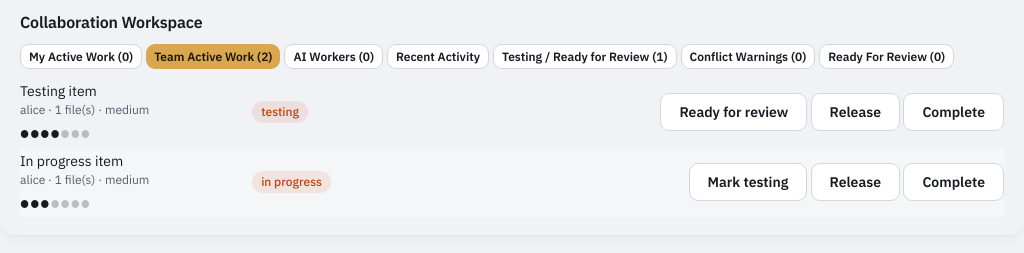
CollaborationWorkspace › Testing / Ready for Review shows testing and ready_for_review items only
The image size is (1024, 253).
expect the text "Testing item" is shown: met, box [20,82,97,100]
Click the button "Testing / Ready for Review (1)".
click(585, 56)  # box [493,44,677,69]
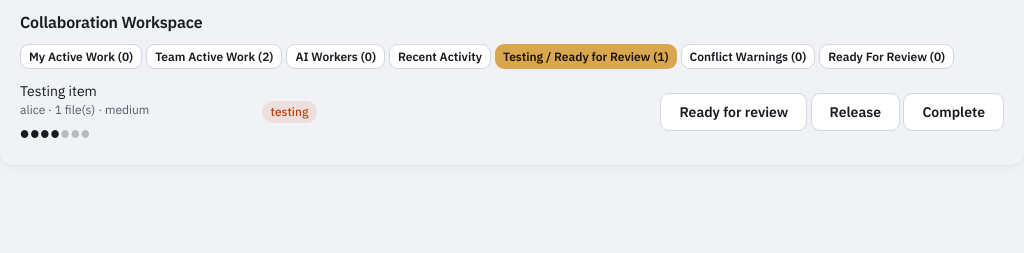
expect the text "Testing item" is shown: met, box [20,82,97,100]
expect the text "In progress item" is gone: met
